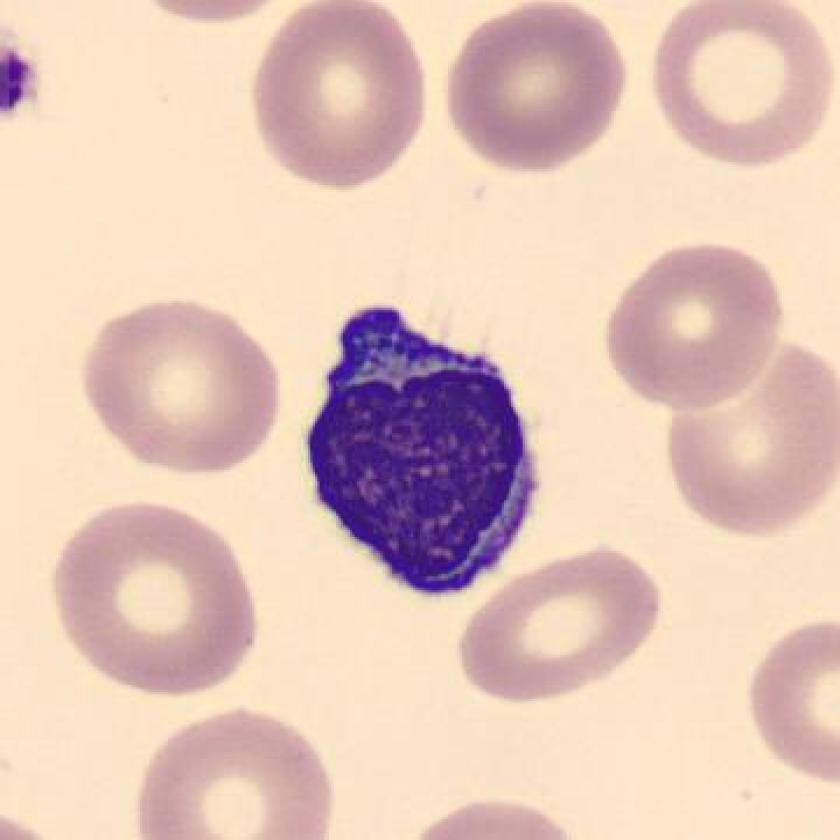lymphocyte: (284, 288, 557, 610)
